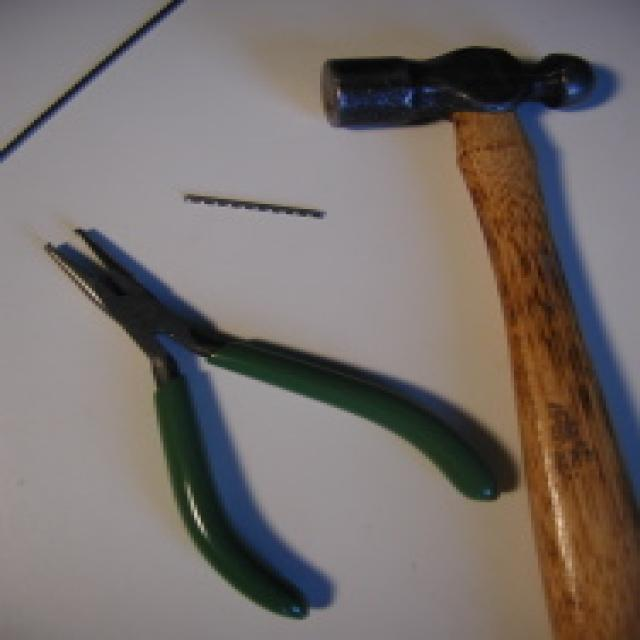hammer: (306, 38, 640, 640)
pliers: (36, 220, 511, 626)
